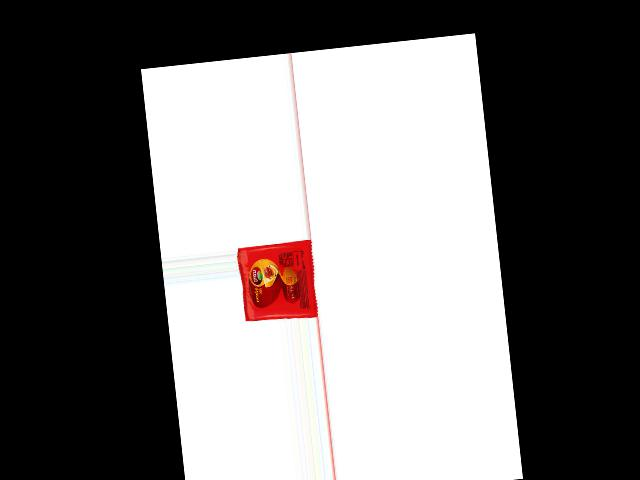cheese: (237, 238, 319, 322)
